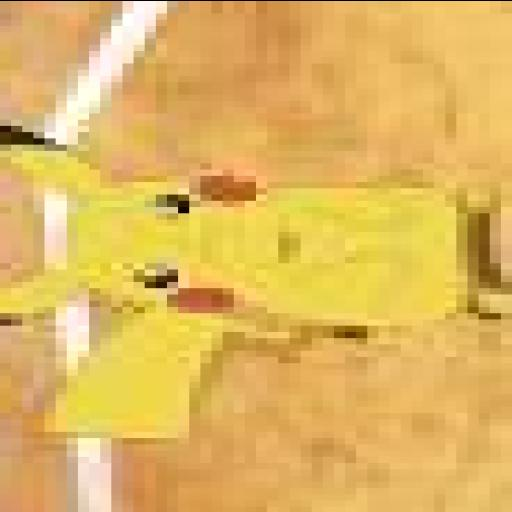Pikachu: (0, 124, 512, 438)
